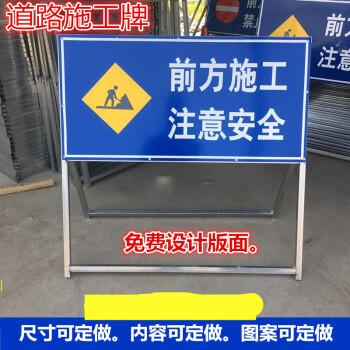sign: (60, 38, 305, 165)
